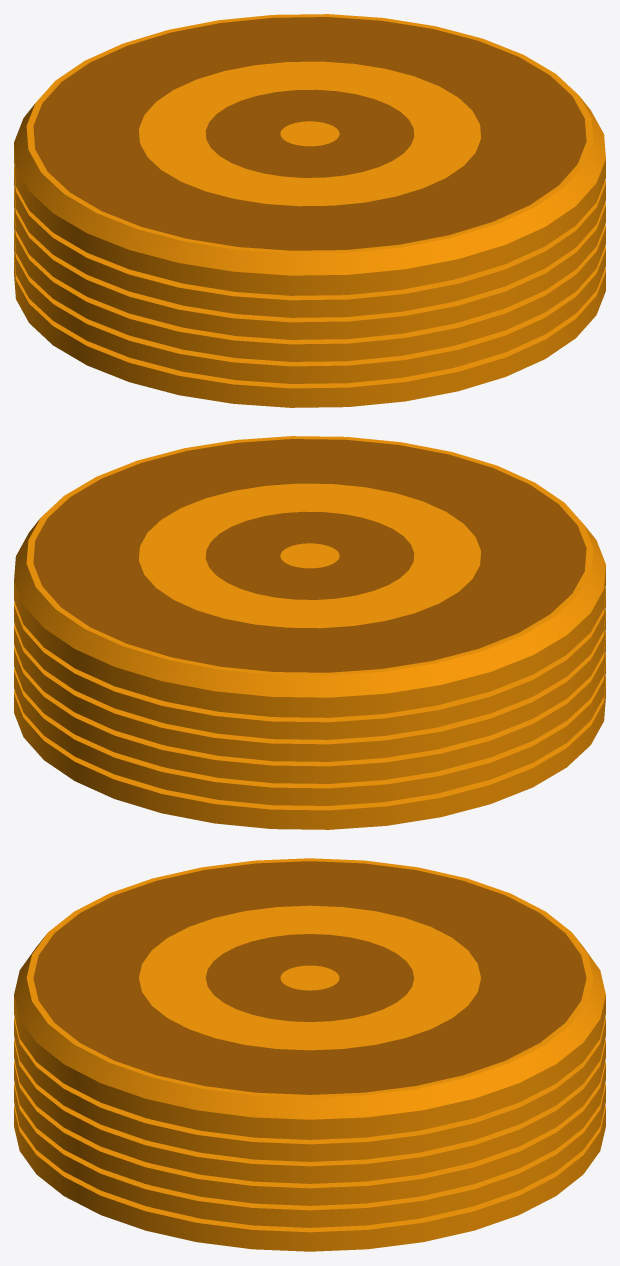
The model's file is Platform.fbx.
3 views of the same model, one above another, from view 1: azimuth 30°, elevation 25°; view 2: azimuth 150°, elevation 25°; view 3: azimuth 270°, elevation 25° (orthographic).
Parts seen in each view (by area): view 1: Cylinder; view 2: Cylinder; view 3: Cylinder.
Boxes of the visible parts, box(x1,y1,x2,y2) form: Cylinder: box(14, 14, 605, 407); Cylinder: box(14, 436, 605, 829); Cylinder: box(14, 858, 605, 1251).
Size of the model in its own units: 4953 by 1372 by 4953.
